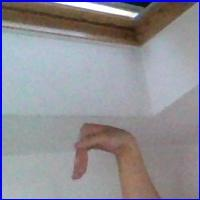del: (66, 121, 139, 185)
